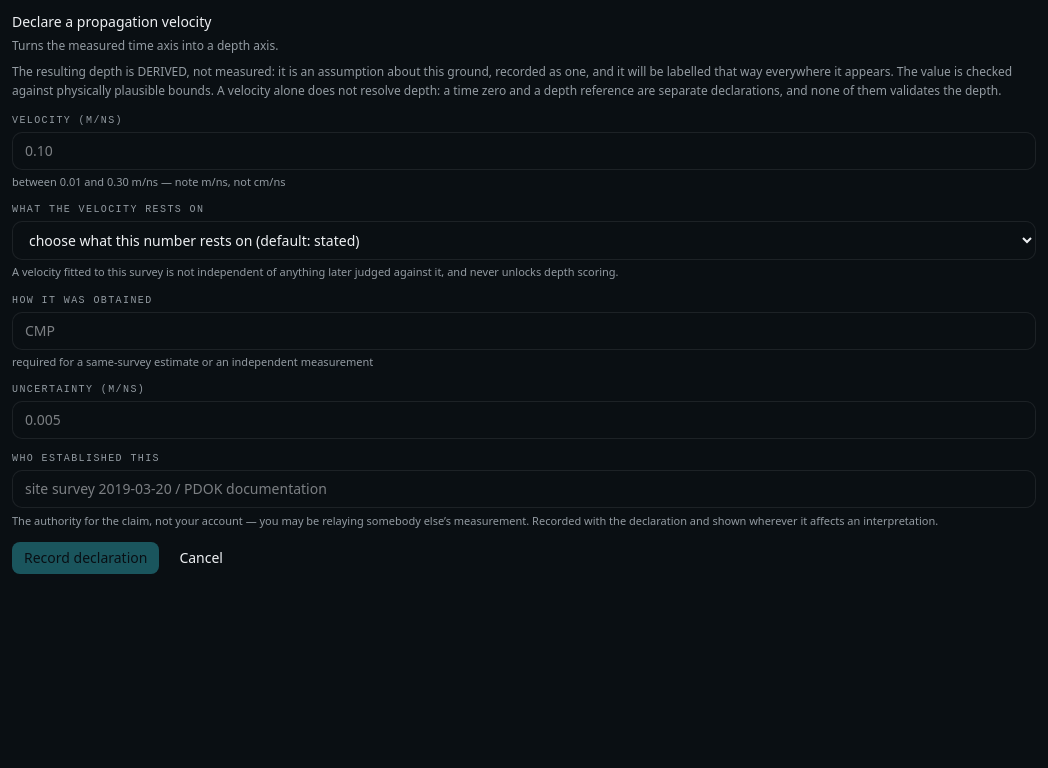
Scenario: declaring › shows the backend refusal verbatim
In the field with id "depth_conversion-velocity_m_per_ns": (524, 150) [12, 132, 1036, 170], type "3.0"
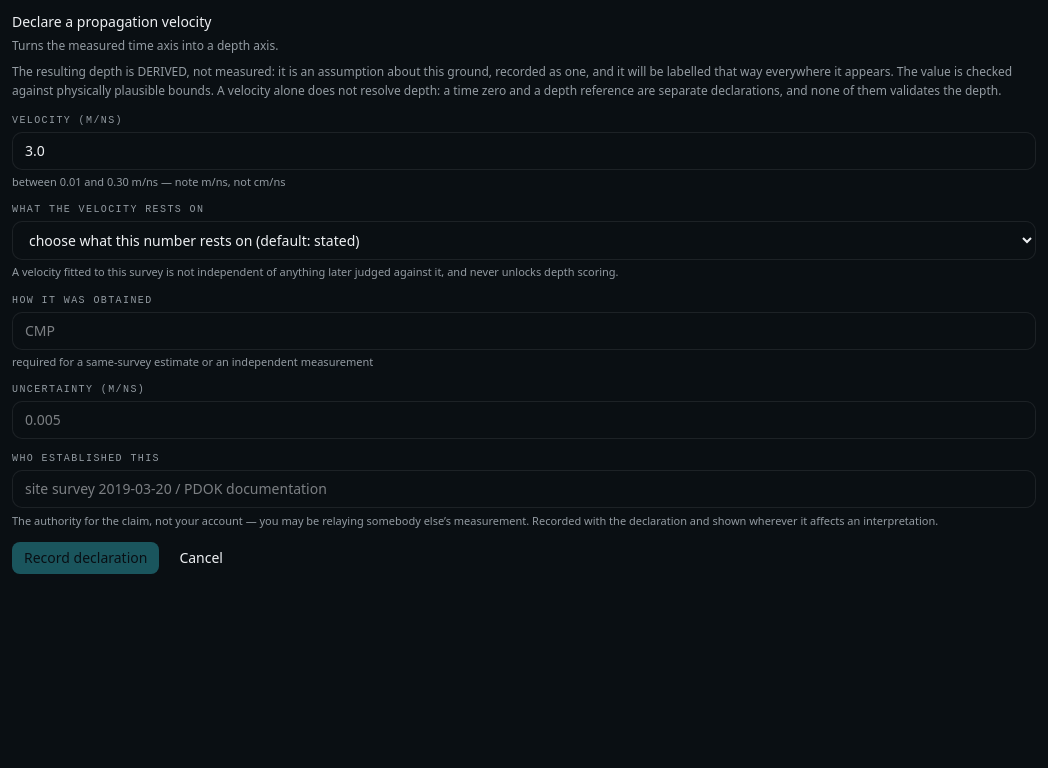
In the field with id "depth_conversion-supplied-by": (524, 489) [12, 470, 1036, 508], type "me"
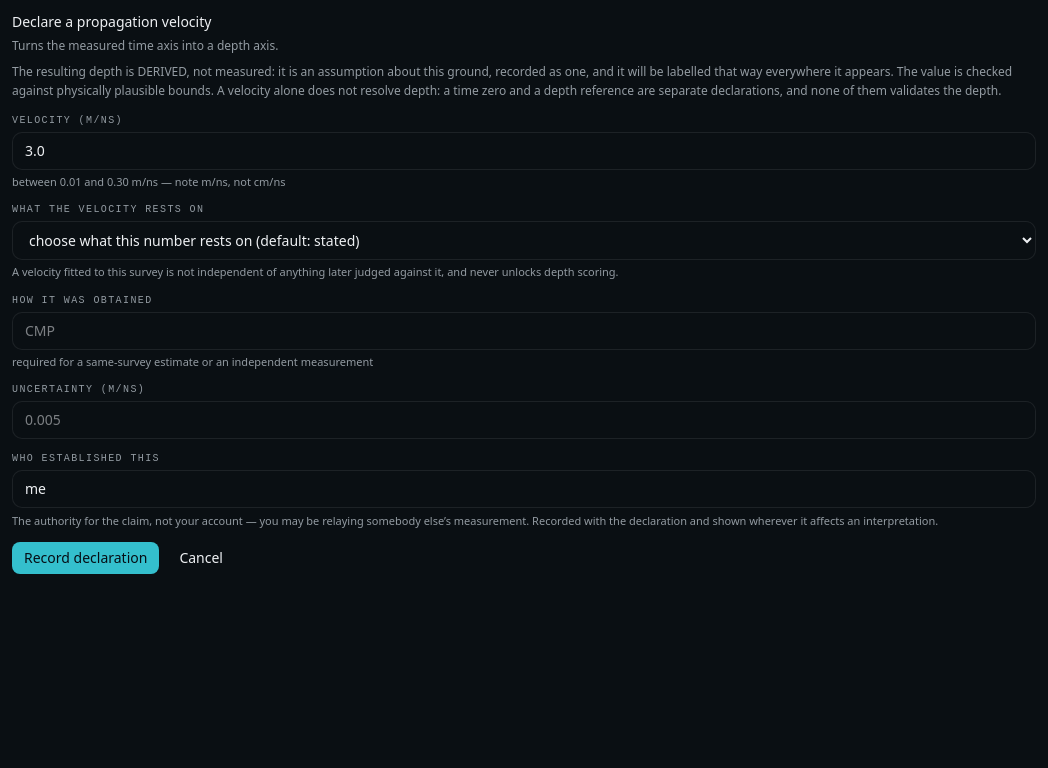
Submit the form
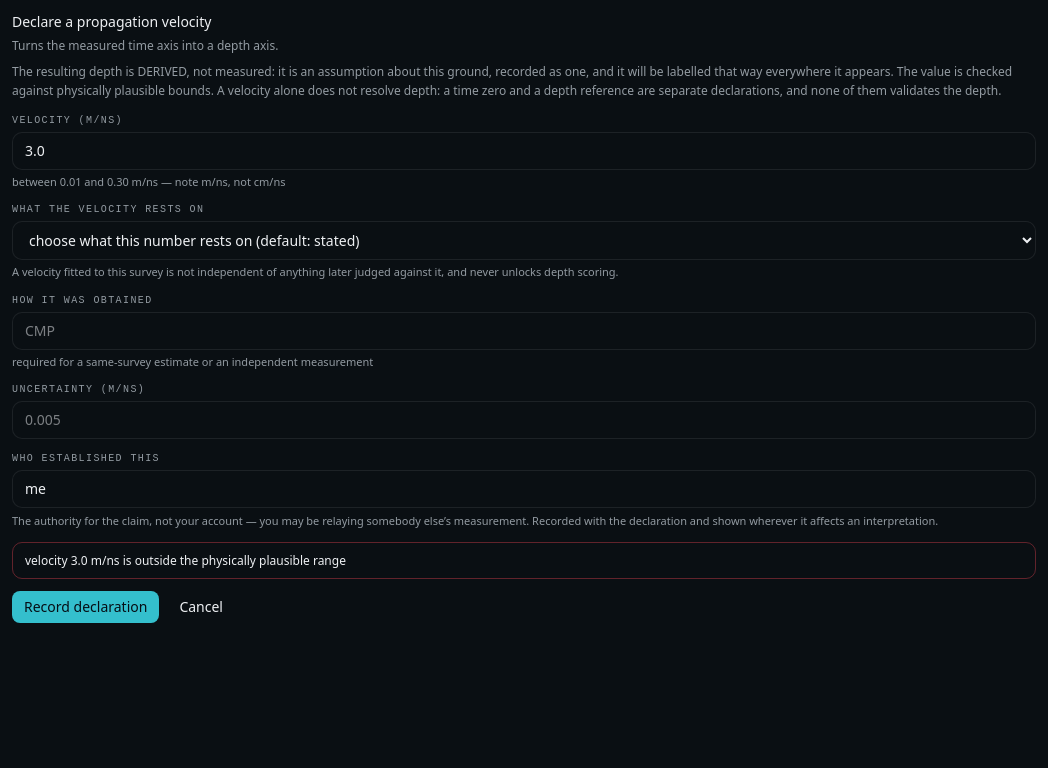
Expected: the message "velocity 3.0 m/ns is outside the physically plausible range" is shown, [12, 542, 1036, 579]
